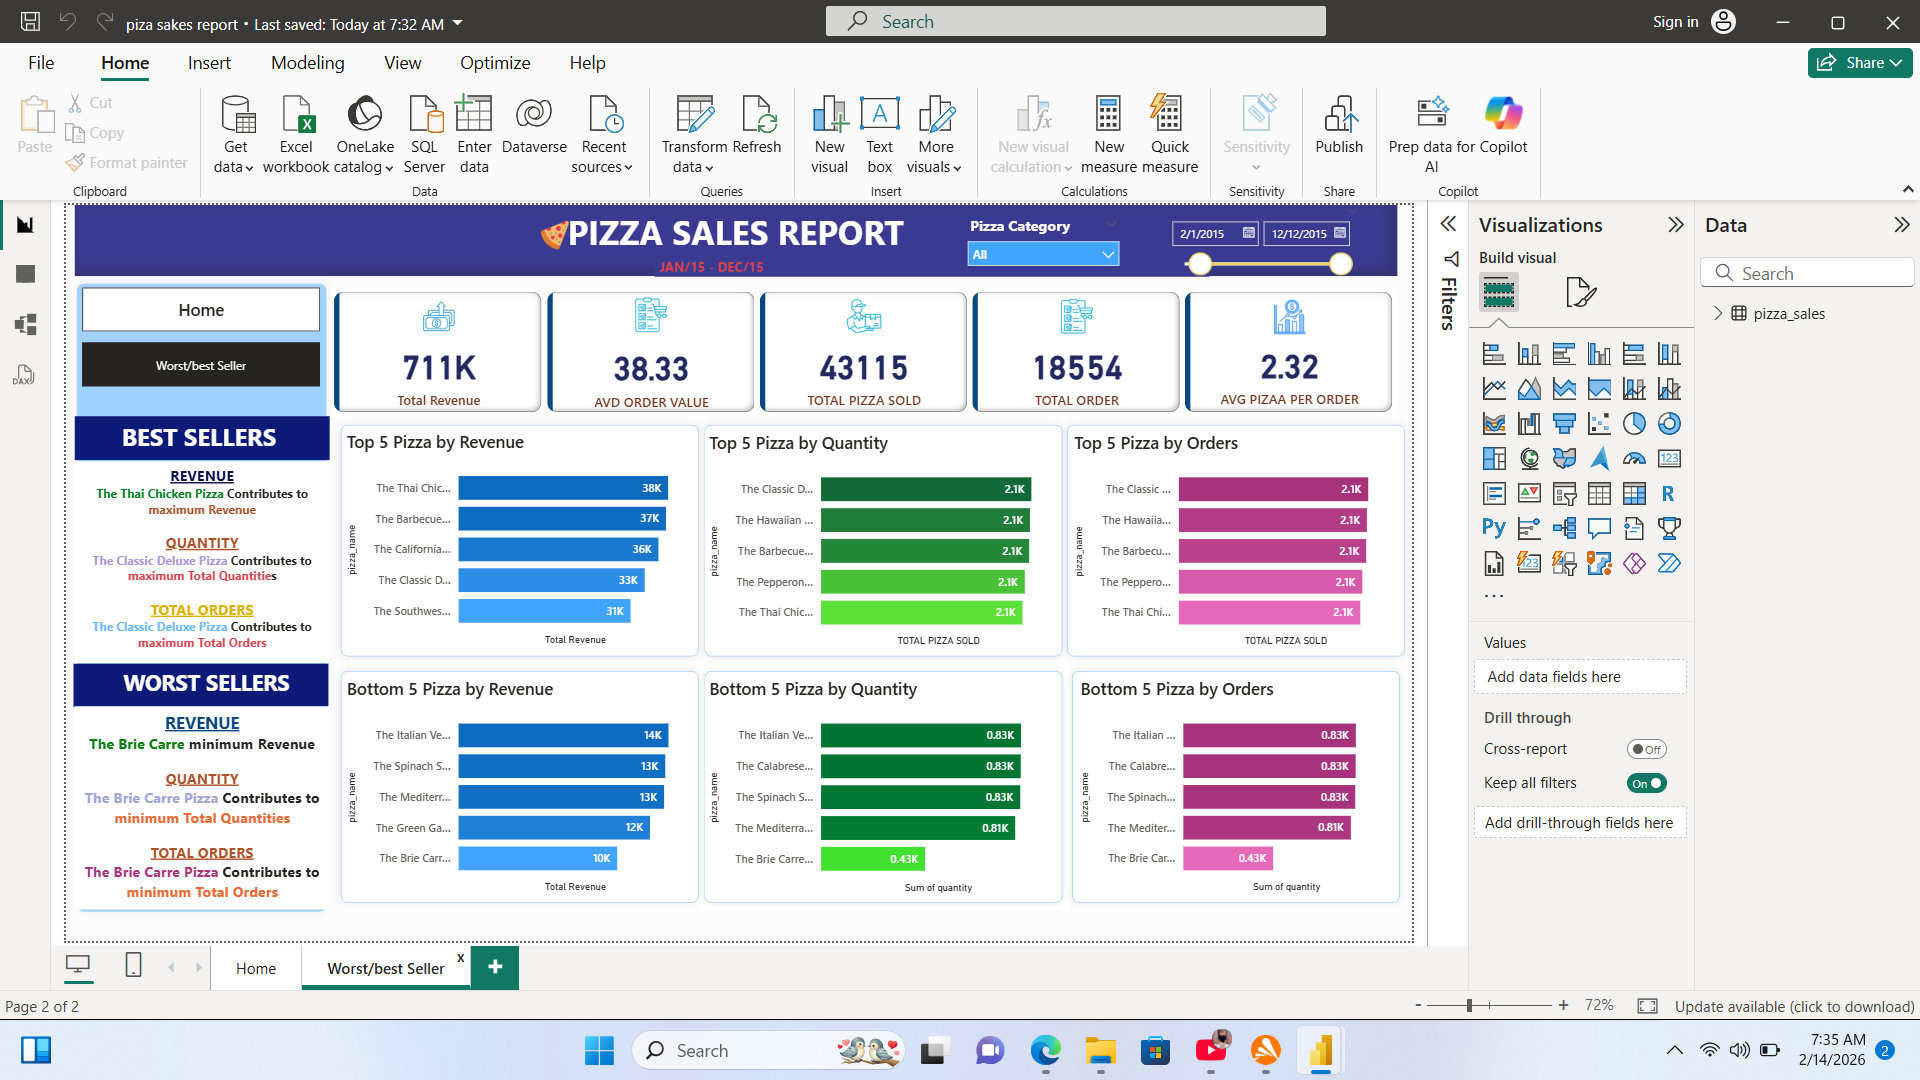

The dashboard page shown, as its layout file describes it:
{"tool":"powerbi","page":{"name":"Worst/best  Seller","canvas":[1500,820],"ordinal":1},"visuals":[{"type":"cardVisual","fields":{"Data":["pizza_sales.Total Revenue","pizza_sales.AVG TOTAL ORDER","pizza_sales.TOTAL PIZZA SOLD","pizza_sales.TOTAL ORDER","pizza_sales.AVG PIZAA PER ORDER"]},"box":[294.1,91.5,1189,144.9],"z":0},{"type":"textbox","box":[9.7,0,1473.4,79.4],"z":1000},{"type":"image","box":[492.5,12.7,102.7,42.2],"z":2000},{"type":"textbox","box":[655.7,54.9,617.7,25.3],"z":3000},{"type":"shape","box":[298,236.8,415,274.4],"z":4000},{"type":"shape","box":[4,80,294,716],"z":5000},{"type":"textbox","box":[9,511,284,48],"z":6000},{"type":"textbox","box":[10,286,284,225],"z":7000},{"type":"textbox","box":[10,236,284,49],"z":8000},{"type":"textbox","box":[10,559,284,226],"z":9000},{"type":"slicer","fields":{"Values":["pizza_sales.pizza_category"]},"box":[994.4,7,189.4,66.8],"z":10000},{"type":"slicer","fields":{"Values":["pizza_sales.order_date"]},"box":[1220,0,231.2,89.1],"z":11000},{"type":"shape","box":[703.3,236.8,415,274.4],"z":12000},{"type":"shape","box":[703.3,511.1,415,274.4],"z":13000},{"type":"shape","box":[1112.7,511.1,381.6,274.4],"z":14000},{"type":"shape","box":[1107.2,236.8,392.7,274.4],"z":15000},{"type":"shape","box":[298,511.1,415,274.4],"z":16000},{"type":"barChart","title":"Top 5 Pizza by Revenue ","fields":{"Y":["pizza_sales.Total Revenue"],"Category":["pizza_sales.pizza_name"]},"box":[307.1,250.9,395.6,244.4],"z":17000},{"type":"barChart","title":"Bottom 5 Pizza by Revenue ","fields":{"Y":["pizza_sales.Total Revenue"],"Category":["pizza_sales.pizza_name"]},"box":[307.1,525.8,395.6,244.4],"z":18000},{"type":"barChart","title":"Top 5 Pizza by Quantity","fields":{"Y":["pizza_sales.TOTAL PIZZA SOLD"],"Category":["pizza_sales.pizza_name"]},"box":[711.7,251.7,396.7,245],"z":19000},{"type":"barChart","title":"Bottom 5 Pizza by Quantity","fields":{"Y":["Sum(pizza_sales.quantity)"],"Category":["pizza_sales.pizza_name"]},"box":[711.7,526.7,396.7,245],"z":20000},{"type":"barChart","title":"Top 5 Pizza by Orders","fields":{"Y":["pizza_sales.TOTAL PIZZA SOLD"],"Category":["pizza_sales.pizza_name"]},"box":[1118.3,251.7,365,245],"z":21000},{"type":"barChart","title":"Bottom 5 Pizza by Orders","fields":{"Y":["Sum(pizza_sales.quantity)"],"Category":["pizza_sales.pizza_name"]},"box":[1125.6,525.8,355.4,244.4],"z":22000},{"type":"pageNavigator","box":[17.7,91.7,265.3,49.9],"z":23000},{"type":"pageNavigator","box":[17.7,152.8,265.3,49.9],"z":24000}]}

Visuals, with their boxes on the page's 1500x820 design canvas (x1, y1, x2, y2). These are canvas units, not pixel positions in the 1920x1080 screenshot, which may show the page scaled, cropped or inside an application window:
cardVisual - pizza_sales.Total Revenue x pizza_sales.AVG TOTAL ORDER: (294, 92, 1483, 236)
textbox: (10, 0, 1483, 79)
image: (492, 13, 595, 55)
textbox: (656, 55, 1273, 80)
shape: (298, 237, 713, 511)
shape: (4, 80, 298, 796)
textbox: (9, 511, 293, 559)
textbox: (10, 286, 294, 511)
textbox: (10, 236, 294, 285)
textbox: (10, 559, 294, 785)
slicer - pizza_sales.pizza_category: (994, 7, 1184, 74)
slicer - pizza_sales.order_date: (1220, 0, 1451, 89)
shape: (703, 237, 1118, 511)
shape: (703, 511, 1118, 786)
shape: (1113, 511, 1494, 786)
shape: (1107, 237, 1500, 511)
shape: (298, 511, 713, 786)
"Top 5 Pizza by Revenue " barChart: (307, 251, 703, 495)
"Bottom 5 Pizza by Revenue " barChart: (307, 526, 703, 770)
"Top 5 Pizza by Quantity" barChart: (712, 252, 1108, 497)
"Bottom 5 Pizza by Quantity" barChart: (712, 527, 1108, 772)
"Top 5 Pizza by Orders" barChart: (1118, 252, 1483, 497)
"Bottom 5 Pizza by Orders" barChart: (1126, 526, 1481, 770)
pageNavigator: (18, 92, 283, 142)
pageNavigator: (18, 153, 283, 203)
